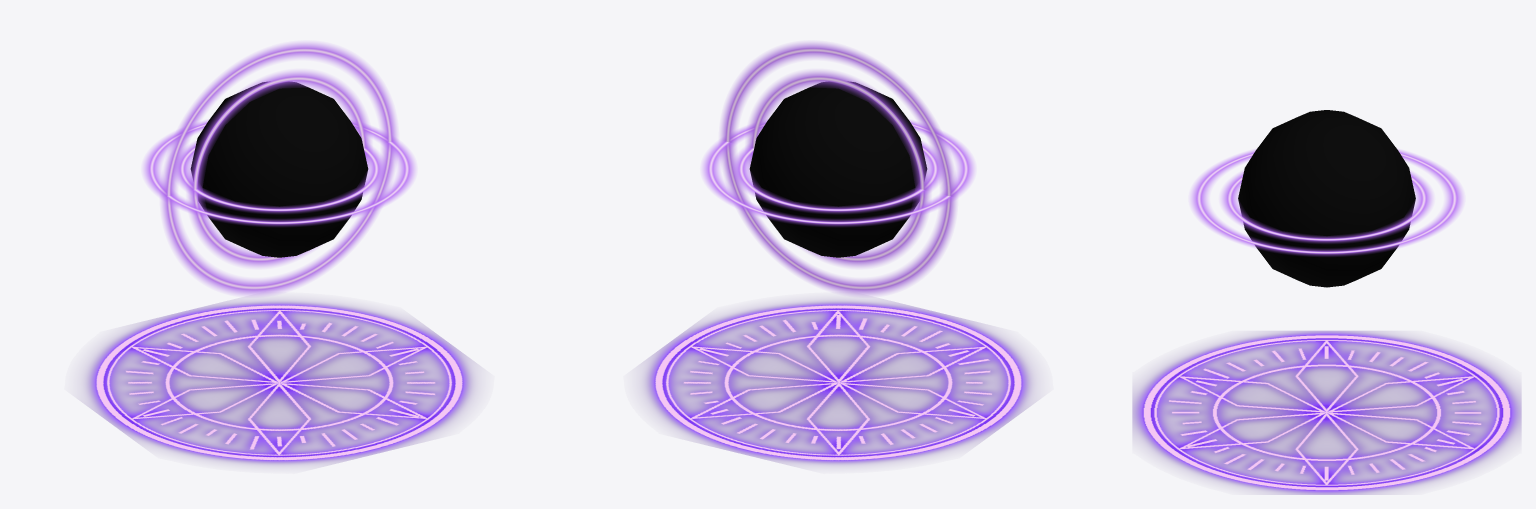
Rendered from fx_hole.glb.
3 renders of one model, left to right at view 1: azimuth 30°, elevation 25°; view 2: azimuth 150°, elevation 25°; view 3: azimuth 270°, elevation 25°, orthographic.
Parts seen in each view (by area): view 1: fx_hole_swirl, fx_hole_ring, fx_hole_void; view 2: fx_hole_swirl, fx_hole_ring, fx_hole_void; view 3: fx_hole_swirl, fx_hole_void, fx_hole_ring.
Part boxes in pixels (<box>): fx_hole_swirl: <box>83,300,475,465</box>; fx_hole_ring: <box>143,42,415,295</box>; fx_hole_void: <box>190,82,368,257</box>; fx_hole_swirl: <box>642,300,1034,465</box>; fx_hole_ring: <box>702,42,974,295</box>; fx_hole_void: <box>749,82,927,257</box>; fx_hole_swirl: <box>1132,331,1521,494</box>; fx_hole_void: <box>1238,110,1415,287</box>; fx_hole_ring: <box>1190,149,1463,255</box>.
Size of the model in its own units: 1.4 by 1.35 by 1.4.
Materials: 3 (2 with a texture image).
